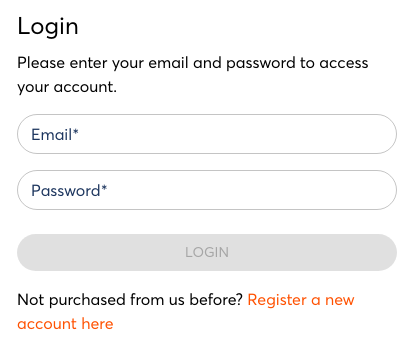
Test: Login Page › should enable the button when all required fields are provided
Type "john@example.com" into the field labelled "Email *".
click(207, 134); type("john@example.com")  # box [17,114,397,154]
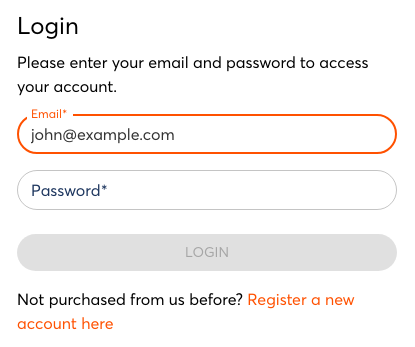
Type "Password123!" into the password field labelled "Password *".
click(207, 190); type("Password123!")  # box [17,170,397,210]
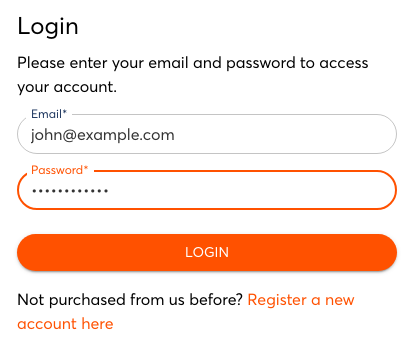
Expected: the button "LOGIN" is enabled, [17,234,397,270]
